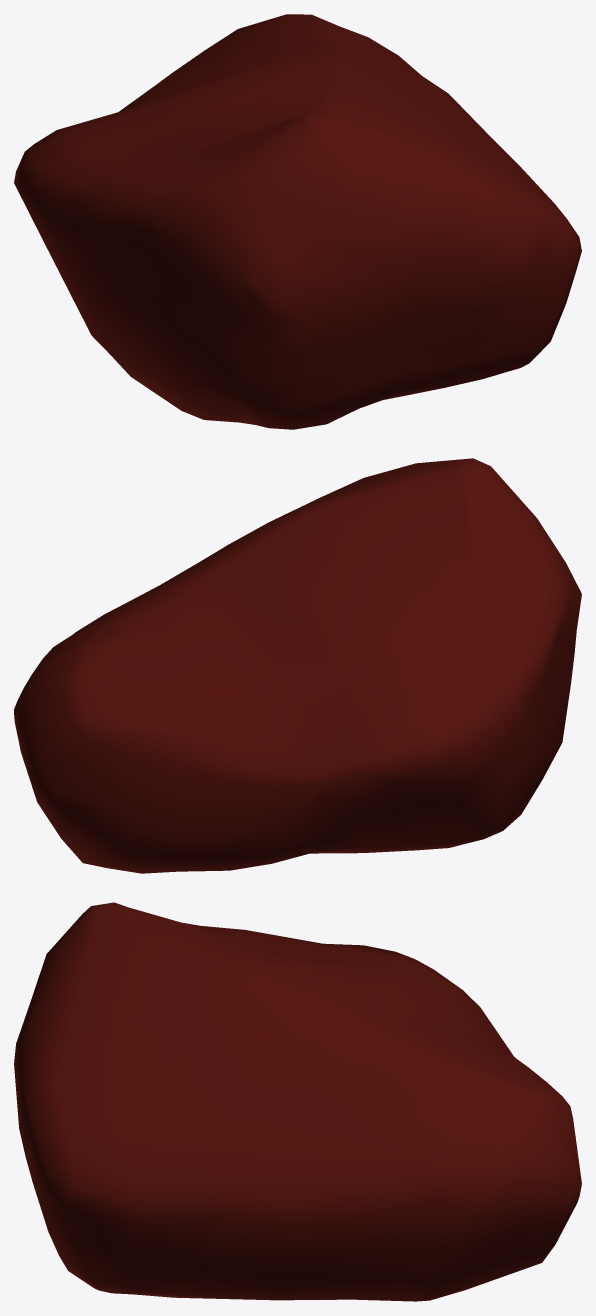
File: SM_Rock_a01_low.fbx
3 renders of one model, top to bottom at view 1: azimuth 30°, elevation 25°; view 2: azimuth 150°, elevation 25°; view 3: azimuth 270°, elevation 25°, orthographic. The views are drawn at different scales.
Visible parts, largest first — view 1: SM_Rock_a01_low; view 2: SM_Rock_a01_low; view 3: SM_Rock_a01_low.
Part boxes in pixels (<box>): SM_Rock_a01_low: <box>14,14,581,429</box>; SM_Rock_a01_low: <box>14,458,581,873</box>; SM_Rock_a01_low: <box>14,902,581,1301</box>.
Size of the model in its own units: 137 by 94.38 by 158.
